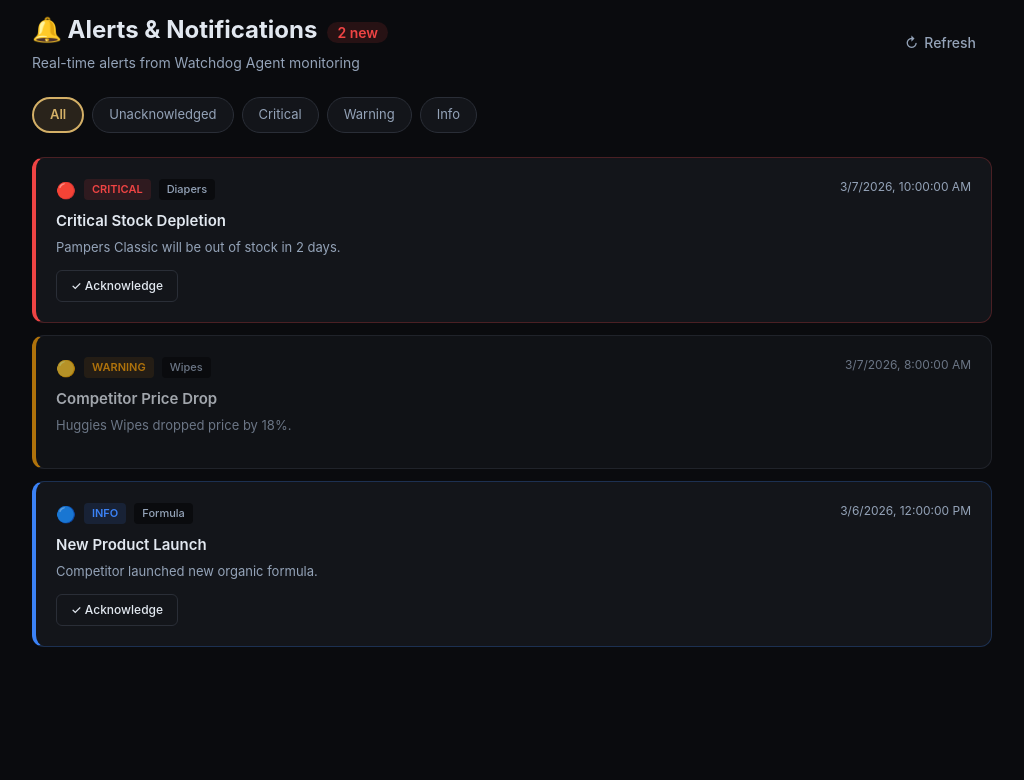
Test: Alerts page › filters to unacknowledged only when filter is clicked
The image size is (1024, 780).
expect the heading "Critical Stock Depletion" is shown: met, box x1=56 y1=210 x2=226 y2=230
Click the button "unacknowledged": point(163, 115) x1=92 y1=97 x2=234 y2=132
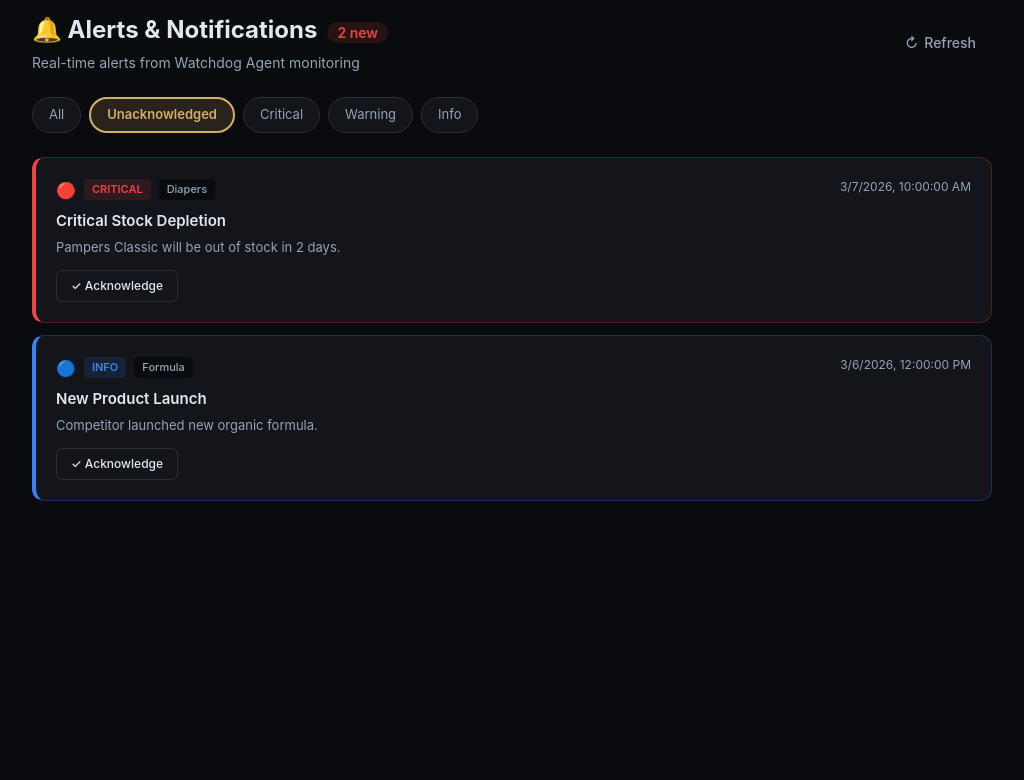
expect the heading "Critical Stock Depletion" is shown: met, box x1=56 y1=210 x2=226 y2=230
expect the heading "Competitor Price Drop" is gone: met
